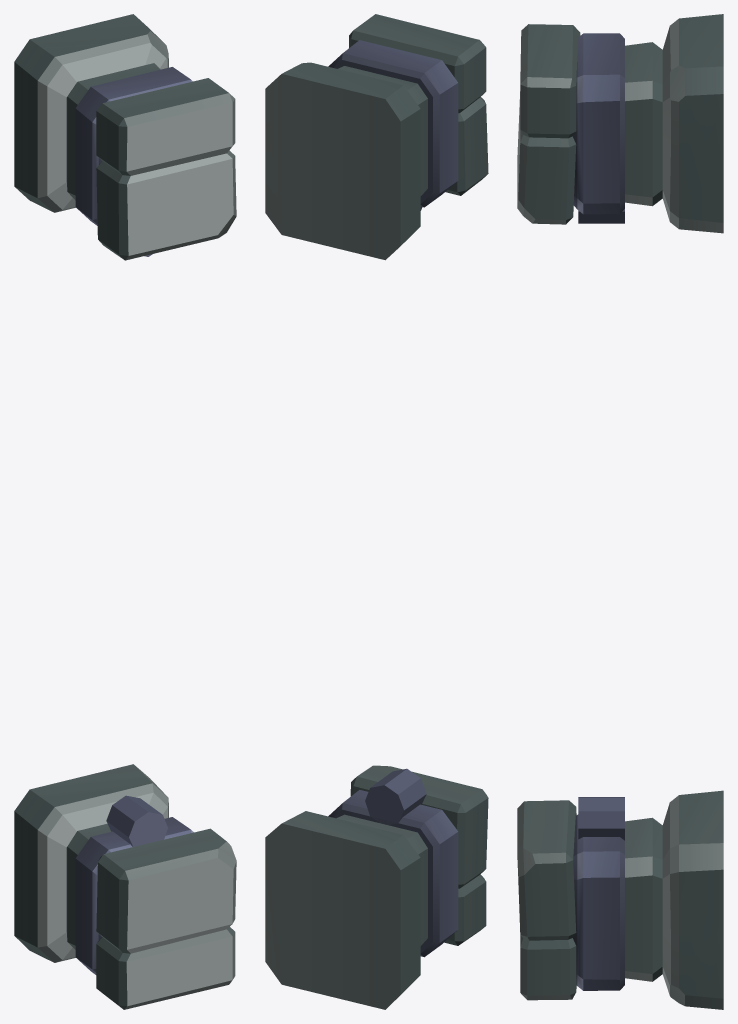
The model's file is metal-gate-posts.obj.
3 renders of one model, left to right at view 1: azimuth 30°, elevation 25°; view 2: azimuth 150°, elevation 25°; view 3: azimuth 270°, elevation 25°, orthographic. The views are drawn at different scales.
Size of the model in its own units: 2.51 by 16.15 by 3.2.
Materials: 1 (1 with a texture image).
